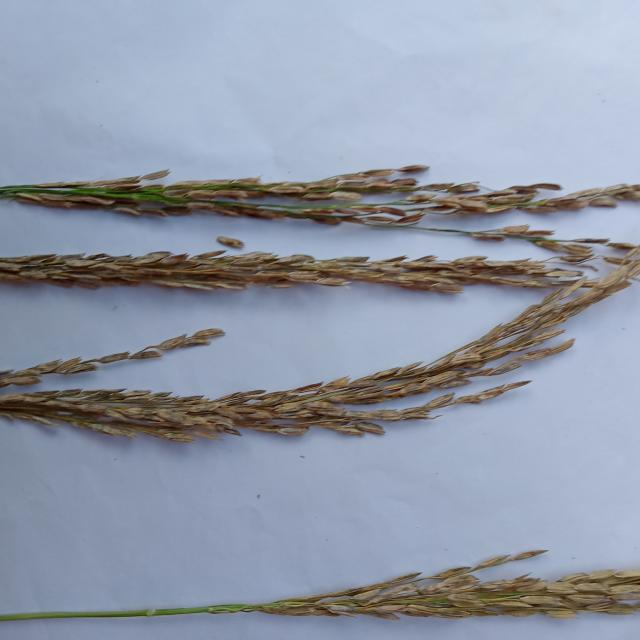Neck_Blast: (0, 287, 633, 432), (0, 172, 640, 225), (224, 569, 636, 620), (0, 254, 545, 291)
